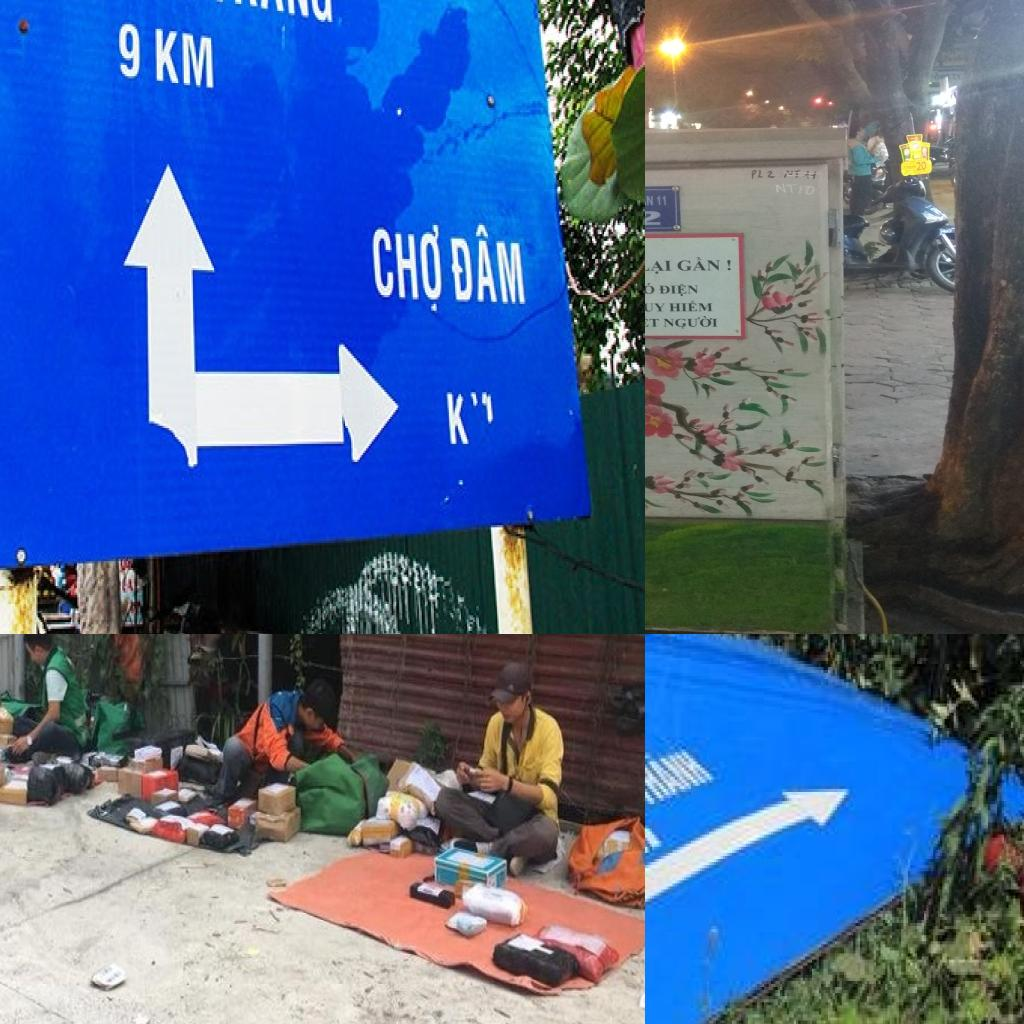text: (113, 16, 220, 96), (369, 218, 448, 320), (447, 223, 529, 313), (645, 737, 725, 816), (201, 0, 337, 33), (441, 388, 476, 455), (663, 316, 718, 328), (678, 257, 721, 271), (774, 183, 816, 196), (669, 300, 713, 312), (659, 284, 698, 297), (645, 260, 672, 274), (751, 169, 776, 180), (645, 211, 661, 226), (645, 303, 665, 312), (645, 315, 659, 327), (655, 196, 667, 206), (645, 282, 654, 294), (645, 193, 653, 206), (916, 161, 926, 171), (904, 164, 917, 171), (727, 260, 731, 271)
